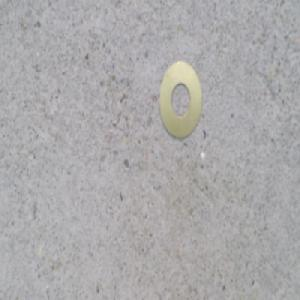Washer: (158, 61, 202, 140)
